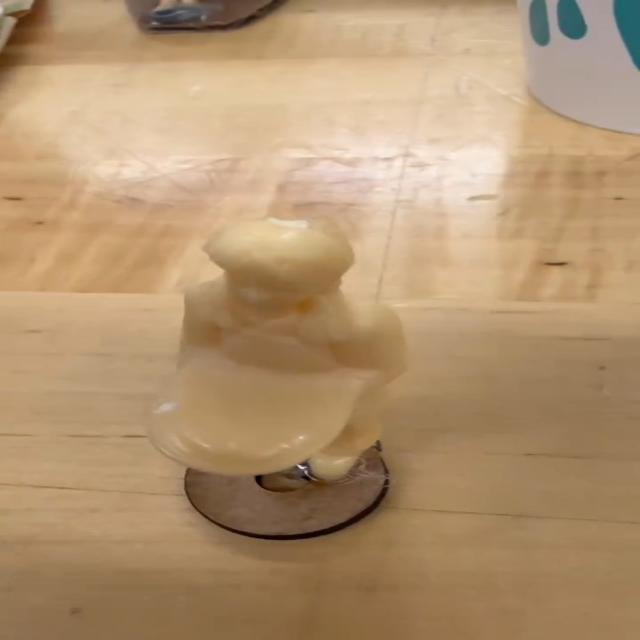Unauthorized: (123, 221, 414, 487)
